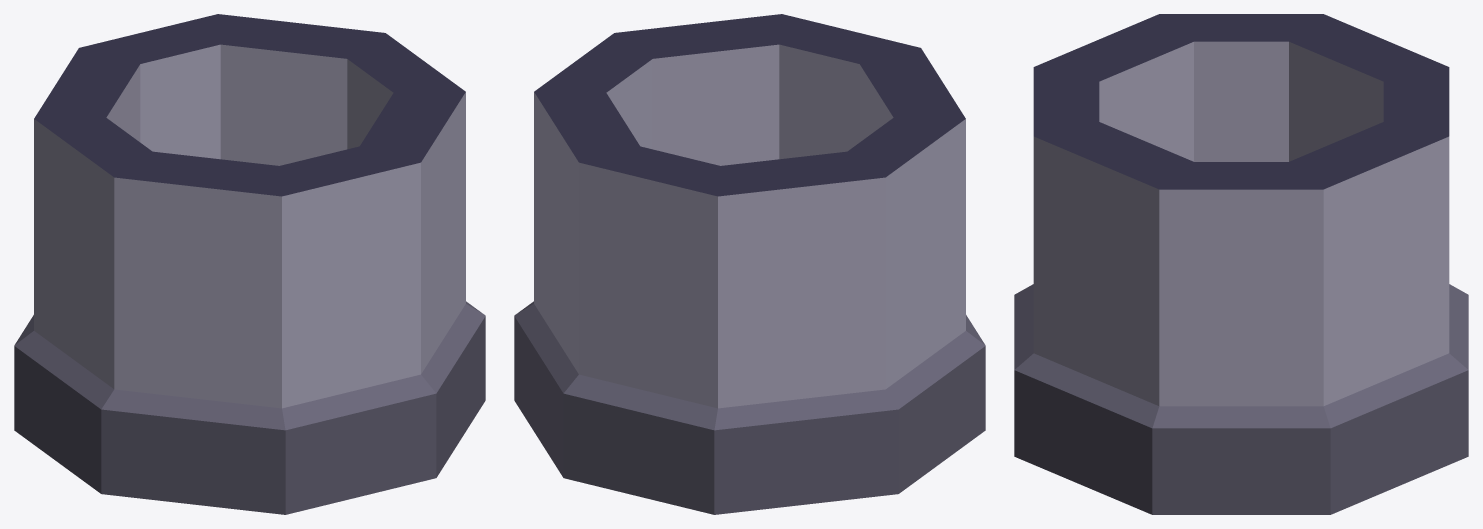
Rendered from WallOshape.fbx.
3 renders of one model, left to right at view 1: azimuth 30°, elevation 25°; view 2: azimuth 150°, elevation 25°; view 3: azimuth 270°, elevation 25°, orthographic. The views are drawn at different scales.
Visible parts, largest first — view 1: WallOShape; view 2: WallOShape; view 3: WallOShape.
Part boxes in pixels (left/top/right/bottom): WallOShape: left=14, top=14, right=485, bottom=514; WallOShape: left=514, top=14, right=985, bottom=514; WallOShape: left=1014, top=14, right=1468, bottom=514.
Size of the model in its own units: 260 by 200 by 260.
